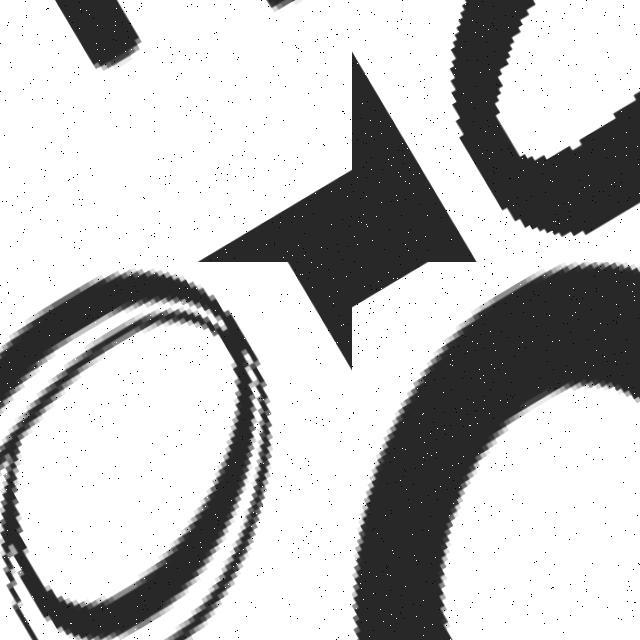0: (352, 0, 640, 262)
3: (0, 0, 352, 258)
9: (0, 262, 352, 640)
O: (352, 262, 640, 640)
